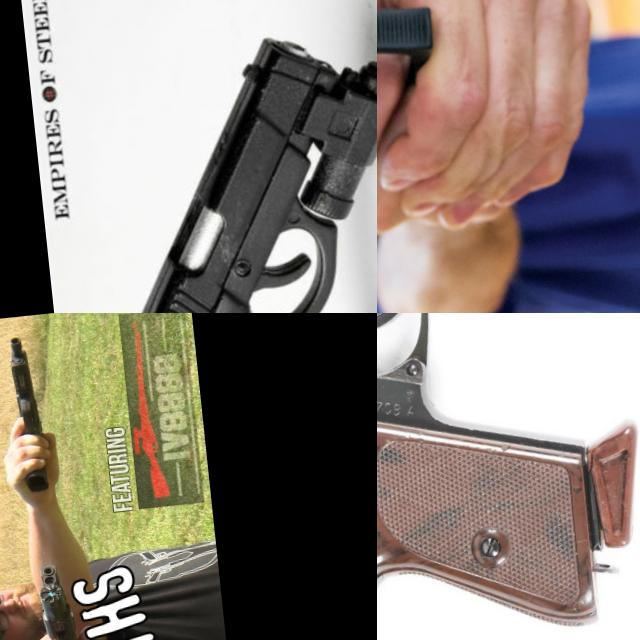handgun: (67, 16, 377, 313), (377, 313, 640, 640), (377, 0, 491, 148), (32, 556, 83, 640), (6, 332, 44, 436)
